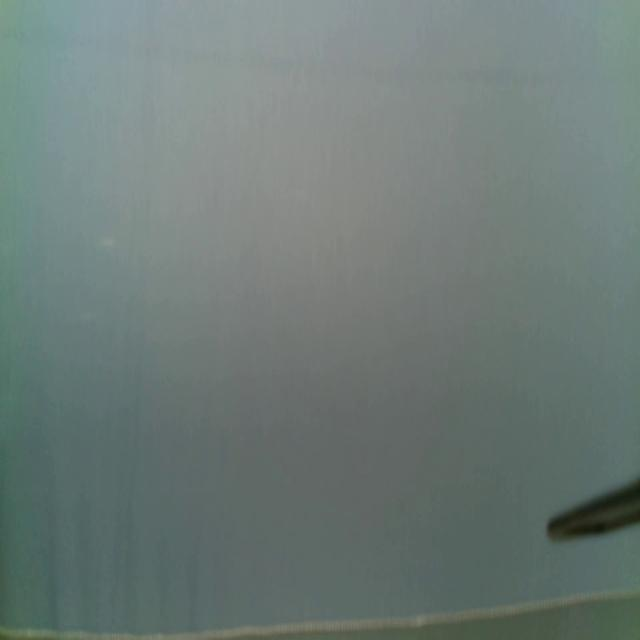color bleeding: (0, 20, 536, 91)
